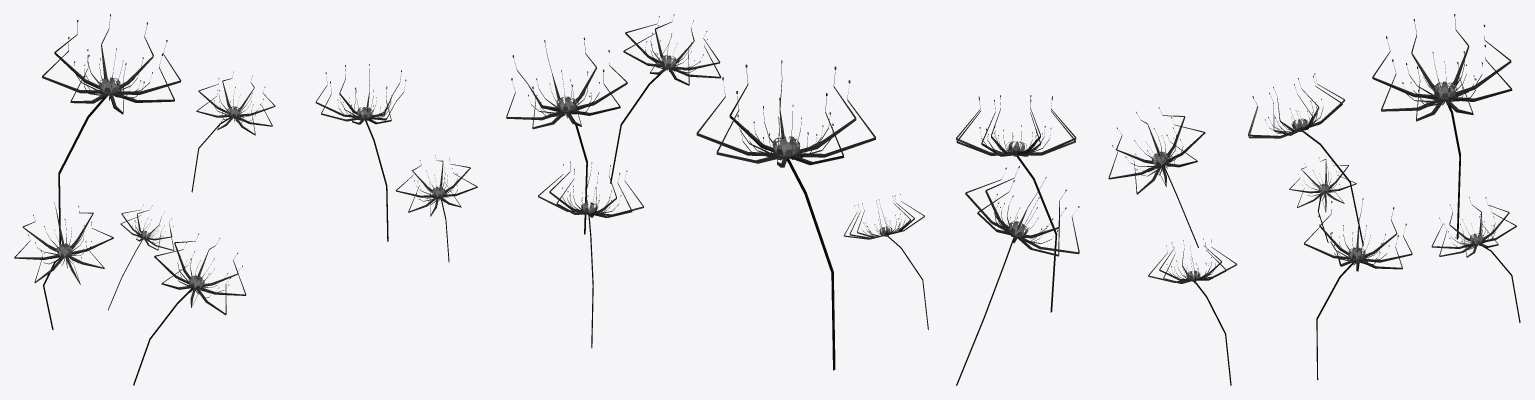
File: higanbanaMort.fbx
3 renders of one model, left to right at view 1: azimuth 30°, elevation 25°; view 2: azimuth 150°, elevation 25°; view 3: azimuth 270°, elevation 25°, orthographic. The views are drawn at different scales.
Parts seen in each view (by area): view 1: petale, petale.003, petale.002, petale.005, petale.004, petale.001, tige, petale.006, tige.003, petaleM.003; view 2: petale, petale.005, petale.003, petale.002, petale.004, tige, petale.001, petale.006, petaleM.003, petaleM.001, tige.003; view 3: petale, petale.002, petale.005, petale.003, petale.001, petale.004, tige, petale.006, tige.003, petaleM.001.
Part boxes in pixels (left/top/right/bottom): petale: left=42, top=14, right=181, bottom=114; petale.003: left=14, top=202, right=113, bottom=284; petale.002: left=154, top=233, right=246, bottom=315; petale.005: left=315, top=64, right=406, bottom=124; petale.004: left=395, top=155, right=477, bottom=216; petale.001: left=196, top=71, right=275, bottom=135; tige: left=58, top=77, right=120, bottom=244; petale.006: left=120, top=205, right=174, bottom=250; tige.003: left=357, top=107, right=388, bottom=241; petaleM.003: left=133, top=275, right=204, bottom=385; petale: left=696, top=60, right=875, bottom=167; petale.005: left=506, top=37, right=627, bottom=129; petale.003: left=965, top=166, right=1079, bottom=256; petale.002: left=956, top=95, right=1076, bottom=156; petale.004: left=623, top=14, right=721, bottom=85; tige: left=772, top=136, right=835, bottom=370; petale.001: left=538, top=161, right=643, bottom=217; petale.006: left=843, top=194, right=924, bottom=239; petaleM.003: left=1006, top=141, right=1057, bottom=312; petaleM.001: left=956, top=221, right=1027, bottom=385; tige.003: left=556, top=96, right=587, bottom=234; petale: left=1372, top=14, right=1512, bottom=121; petale.002: left=1108, top=107, right=1205, bottom=194; petale.005: left=1304, top=198, right=1412, bottom=271; petale.003: left=1248, top=73, right=1345, bottom=138; petale.001: left=1431, top=197, right=1516, bottom=257; petale.004: left=1148, top=238, right=1237, bottom=283; tige: left=1433, top=81, right=1460, bottom=239; petale.006: left=1289, top=157, right=1356, bottom=212; tige.003: left=1316, top=247, right=1365, bottom=379; petaleM.001: left=1291, top=118, right=1363, bottom=245.
Bounding box in the file's own units: 161 × 93.73 × 133.
Materials: 3 (3 with a texture image).
